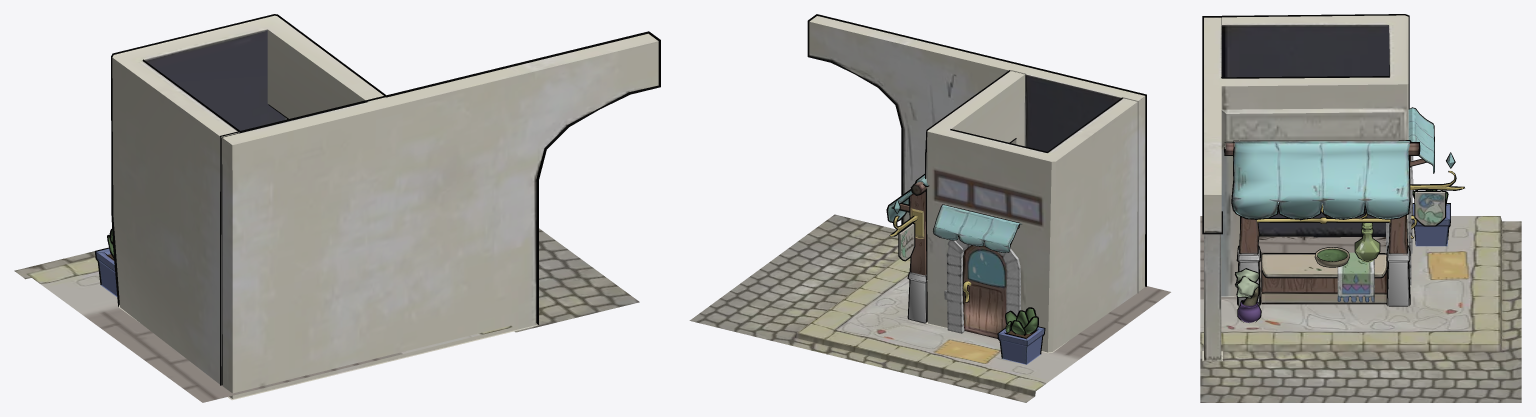
File: cornerShop.glb
3 views of the same model, side by side, from view 1: azimuth 30°, elevation 25°; view 2: azimuth 150°, elevation 25°; view 3: azimuth 270°, elevation 25° (orthographic). The views are drawn at different scales.
Visible parts, largest first — view 1: Buildning_Wall_ground_mat_0, Stall_front_Cel_mat_0, Stall_front_Stall_mat_0; view 2: Buildning_Wall_ground_mat_0, Stall_front_Stall_mat_0, Stall_front_Cel_mat_0; view 3: Buildning_Wall_ground_mat_0, Stall_front_Stall_mat_0, Stall_front_Cel_mat_0.
Part boxes in pixels (box(x1,y1,x2,y2)): Buildning_Wall_ground_mat_0: box(14, 15, 658, 402); Stall_front_Cel_mat_0: box(95, 14, 660, 385); Stall_front_Stall_mat_0: box(96, 230, 117, 296); Buildning_Wall_ground_mat_0: box(689, 16, 1170, 402); Stall_front_Stall_mat_0: box(888, 175, 1044, 364); Stall_front_Cel_mat_0: box(807, 14, 1146, 358); Buildning_Wall_ground_mat_0: box(1200, 15, 1521, 402); Stall_front_Stall_mat_0: box(1225, 108, 1464, 322); Stall_front_Cel_mat_0: box(1202, 14, 1464, 322).
Size of the model in its own units: 12 by 6.42 by 8.54.
3 materials, 2 textured.
